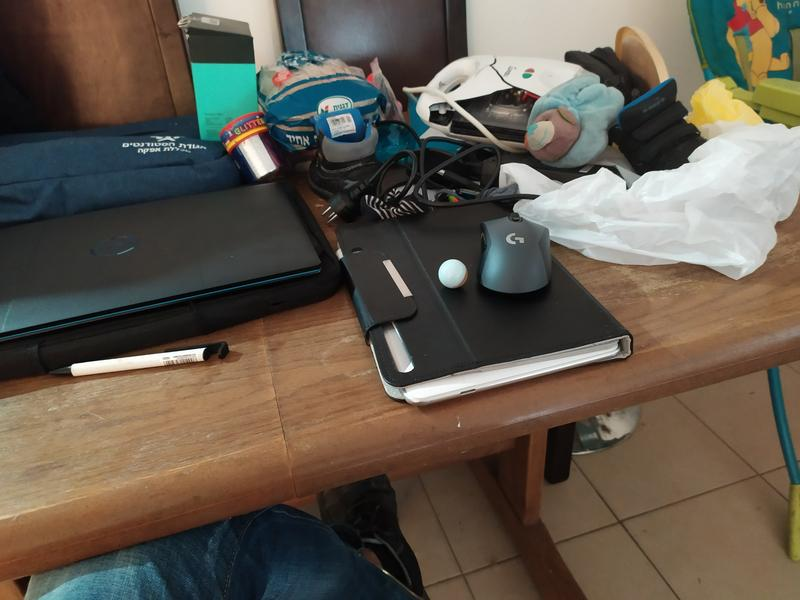Warning: (436, 258, 470, 290)
